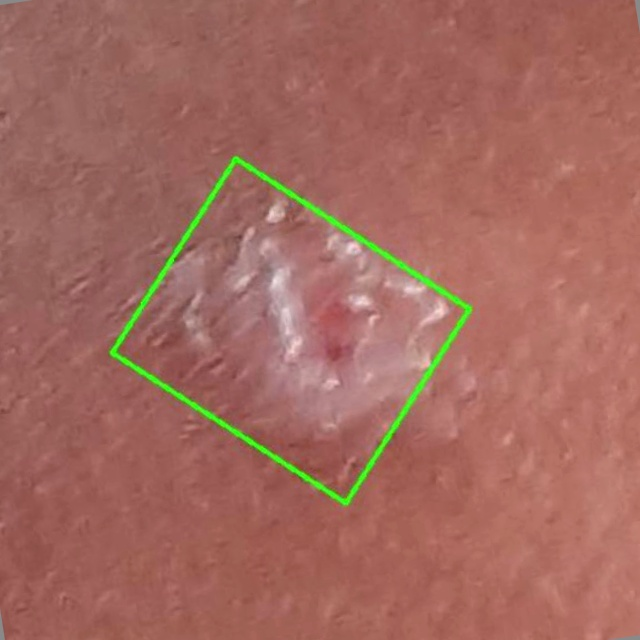Contact Dermatitis: (113, 159, 470, 502)
